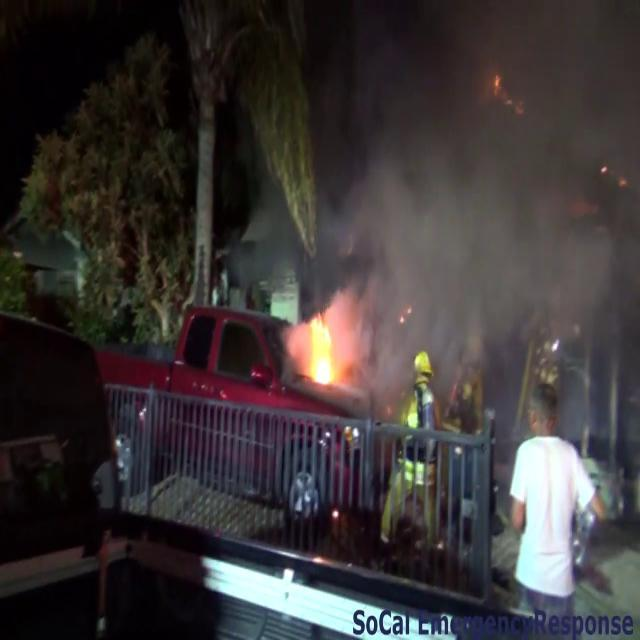Fire: (296, 302, 348, 395)
Smoke: (317, 0, 640, 354)
